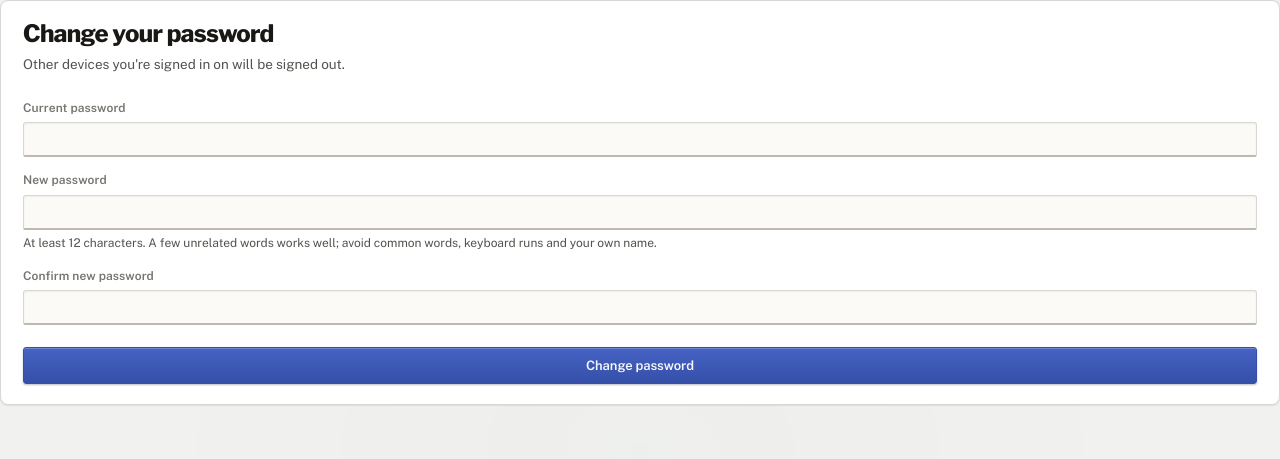
ChangePasswordForm › refuses when the two new passwords differ
The width and height of the screenshot is (1280, 459).
Type "old-passphrase-1" into the password field labelled "Current password". click: (640, 140)
box: [23,122,1257,157]
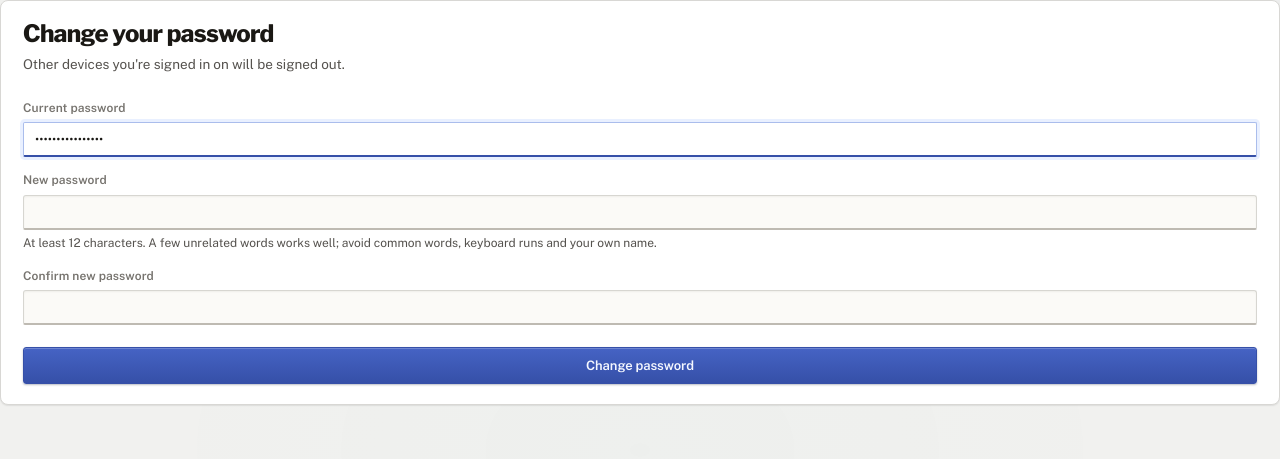
Type "a-much-better-passphrase" into the password field labelled "New password". click: (640, 212)
box: [23,195,1257,230]
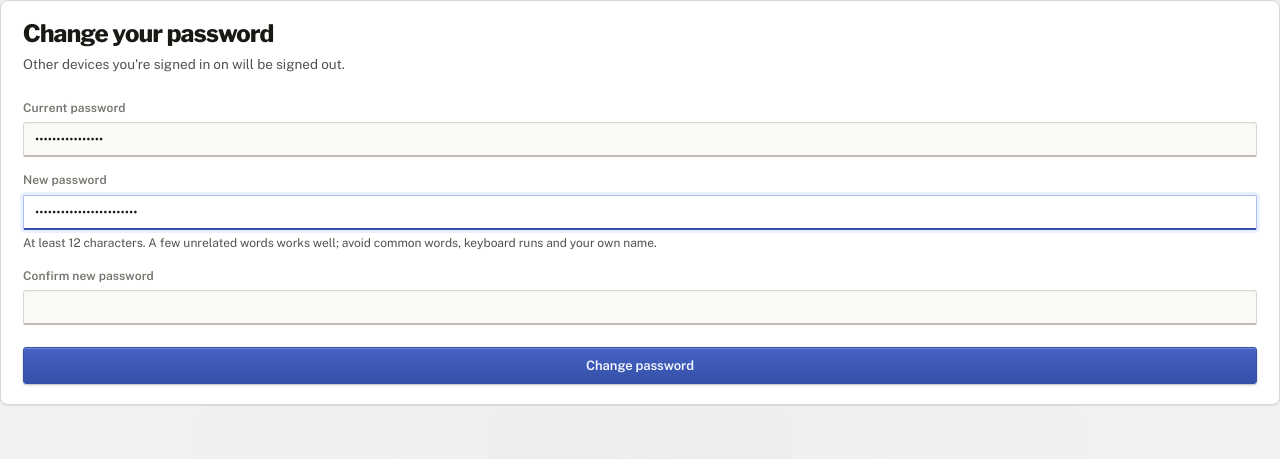
Type "a-much-better-passphrasE" into the password field labelled "Confirm new password". click: (640, 308)
box: [23,290,1257,325]
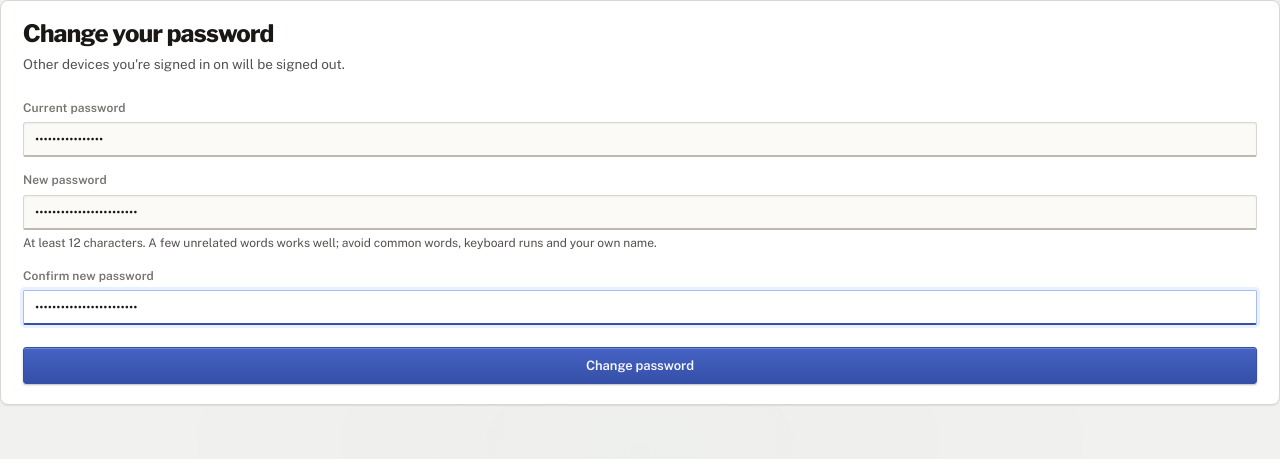
Click the button "Change password". click: (640, 366)
box: [23,347,1257,384]
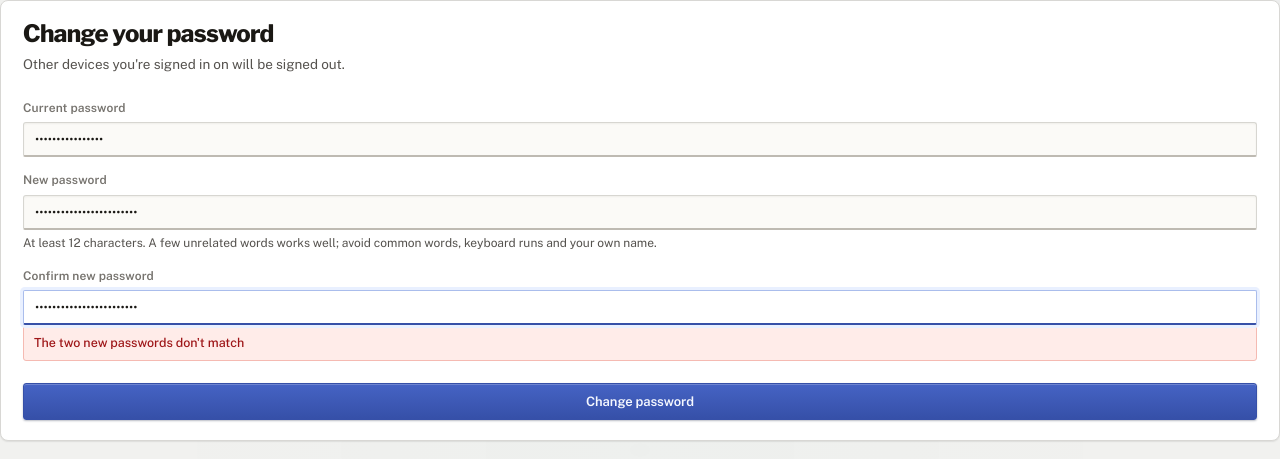
Expected: the text "The two new passwords don't match" is shown, [23,325,1257,361]
